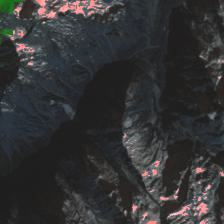landslides: (50, 100, 73, 117)
